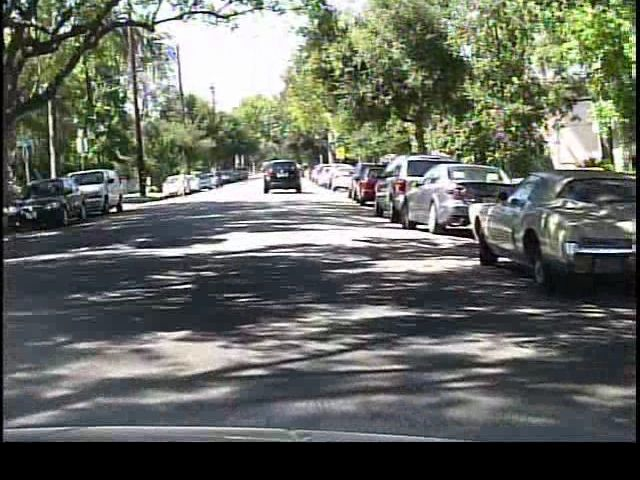person: (175, 166, 192, 201)
